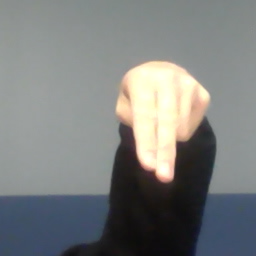N: (116, 58, 216, 187)
